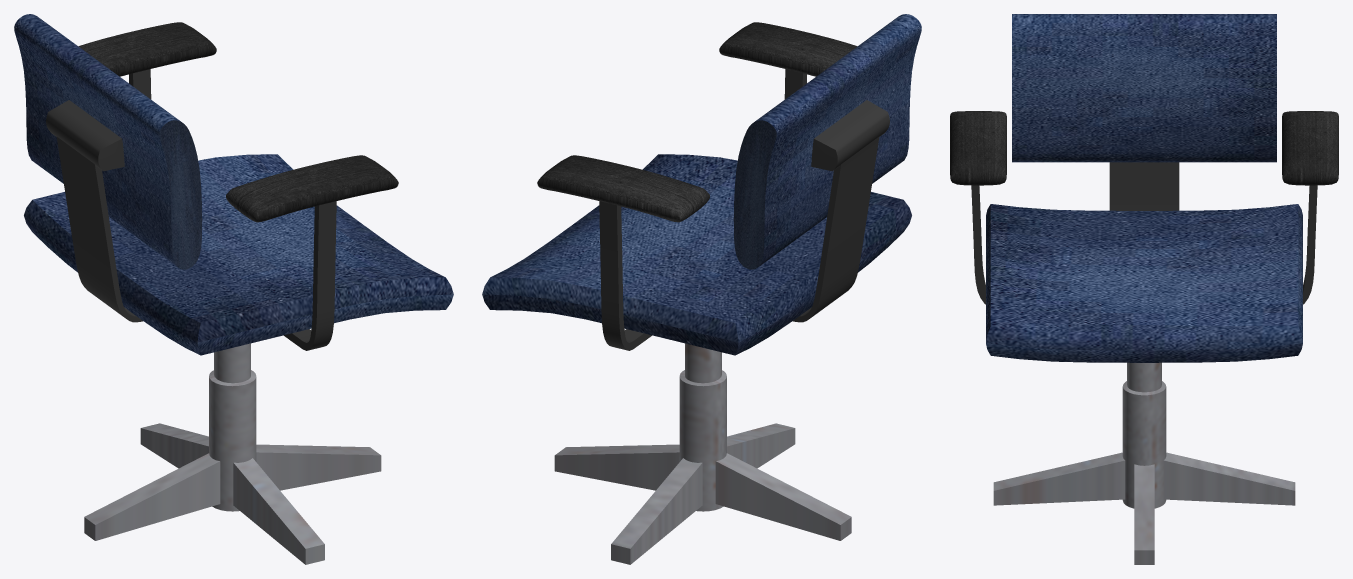
The model's file is chair.fbx.
The picture shows the model from 3 angles, left to right: view 1: azimuth 30°, elevation 25°; view 2: azimuth 150°, elevation 25°; view 3: azimuth 270°, elevation 25°; orthographic projection. The views are drawn at different scales.
Parts seen in each view (by area): view 1: obj1; view 2: obj1; view 3: obj1.
Boxes of the visible parts, bbox=[...] form: obj1: bbox=[14, 14, 453, 564]; obj1: bbox=[482, 14, 921, 564]; obj1: bbox=[950, 14, 1338, 564].
Bounding box in the file's own units: 1.44 × 2.12 × 1.75.
1 material, 1 textured.
